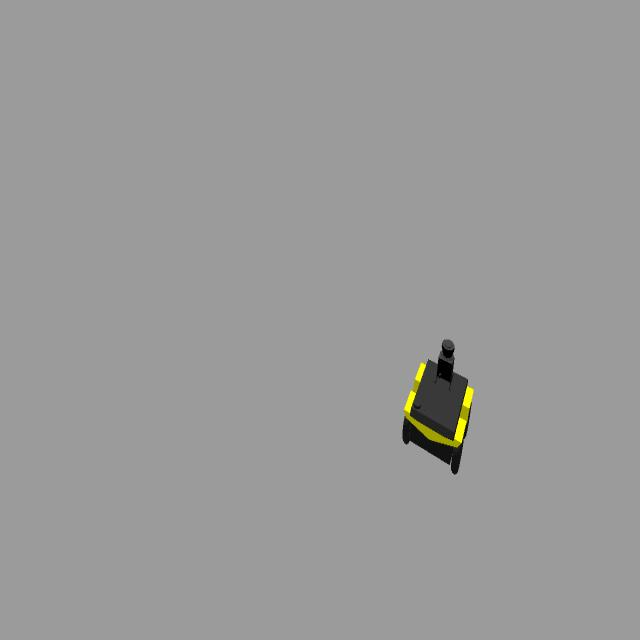jackal: (402, 337, 474, 473)
